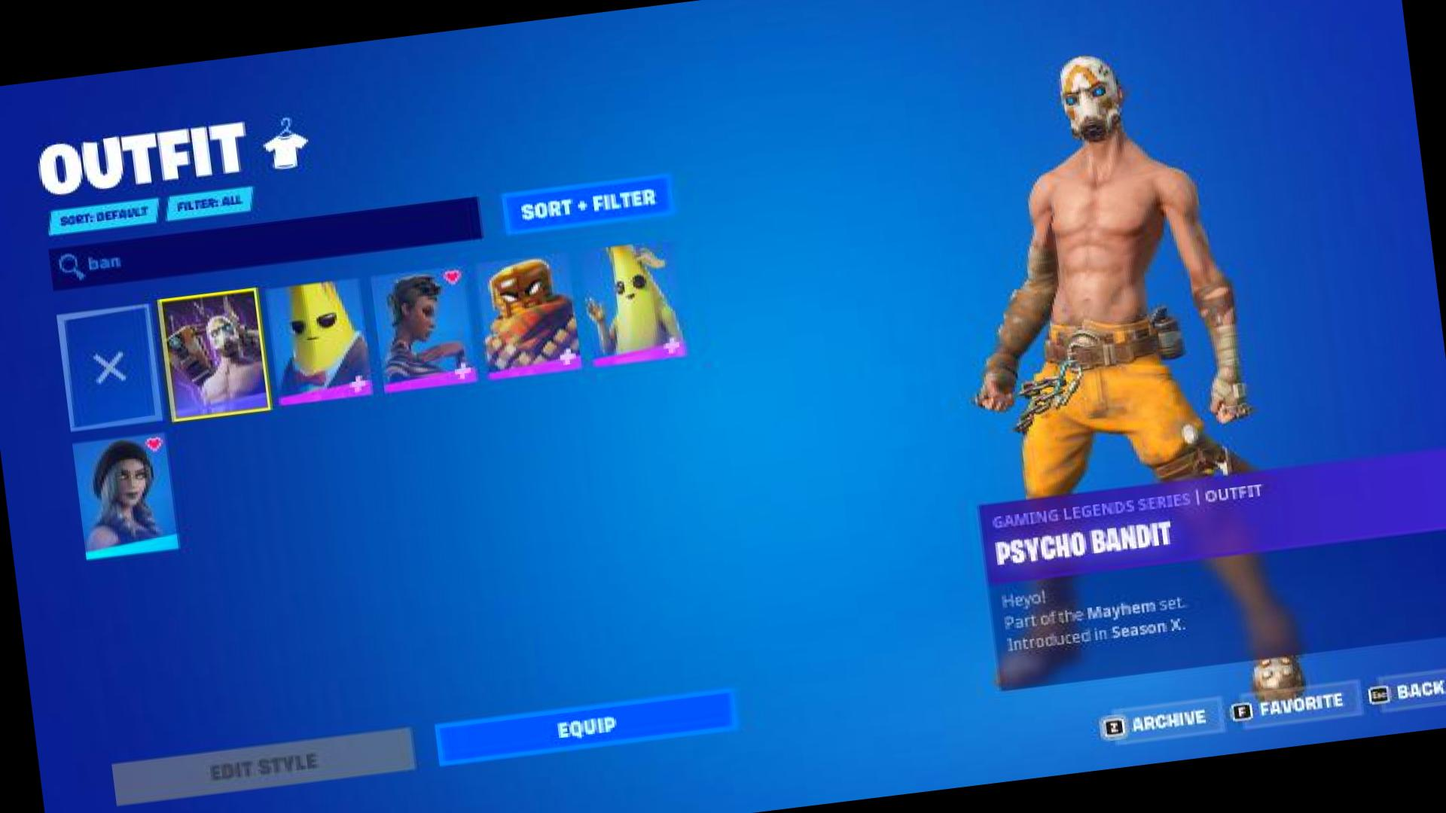player: (898, 33, 1350, 724)
